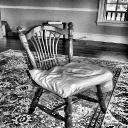chair_success: (10, 22, 116, 128)
